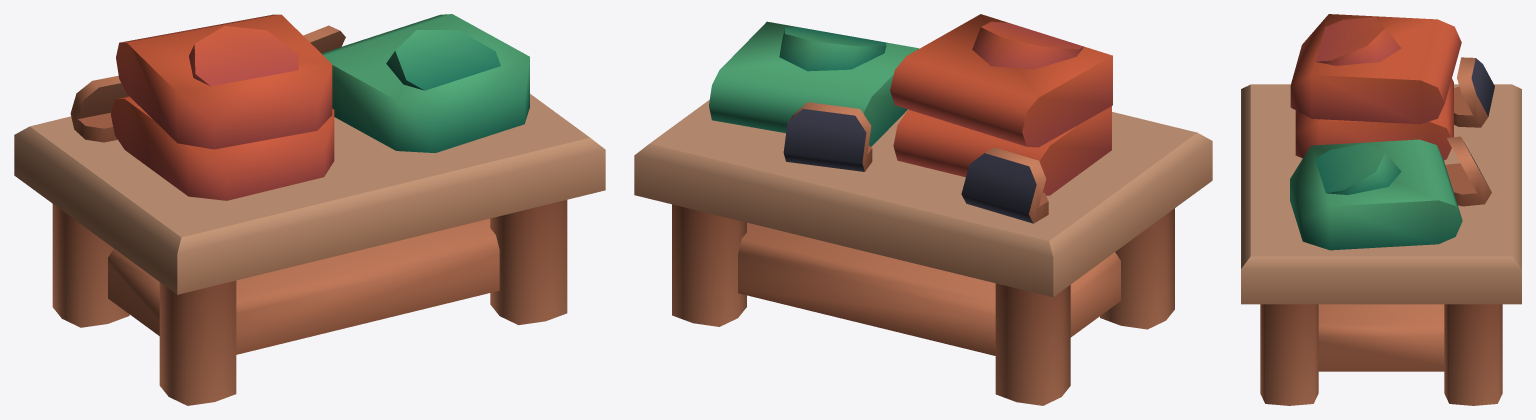
Rendered from clothing_table.fbx.
3 renders of one model, left to right at view 1: azimuth 30°, elevation 25°; view 2: azimuth 150°, elevation 25°; view 3: azimuth 270°, elevation 25°, orthographic. The views are drawn at different scales.
Visible parts, largest first — view 1: clothing-table; view 2: clothing-table; view 3: clothing-table.
Boxes of the visible parts, x1,y1,x2,y2 form: clothing-table: (14, 14, 605, 405); clothing-table: (634, 14, 1212, 405); clothing-table: (1241, 14, 1521, 405).
Size of the model in its own units: 1 by 0.6762 by 0.6591.
